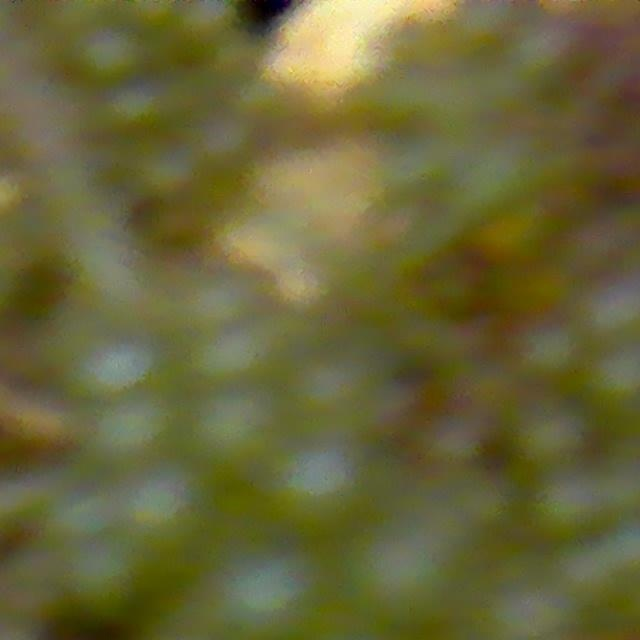SeaGrape: (338, 510, 458, 628), (201, 557, 320, 640), (258, 443, 357, 541), (189, 386, 274, 467), (58, 538, 138, 622), (94, 390, 175, 467), (69, 331, 158, 401), (120, 479, 201, 553), (175, 260, 260, 327), (517, 398, 592, 469), (530, 471, 604, 541), (75, 20, 148, 88), (290, 357, 368, 419), (197, 327, 278, 383), (45, 483, 113, 546), (587, 342, 640, 413)
